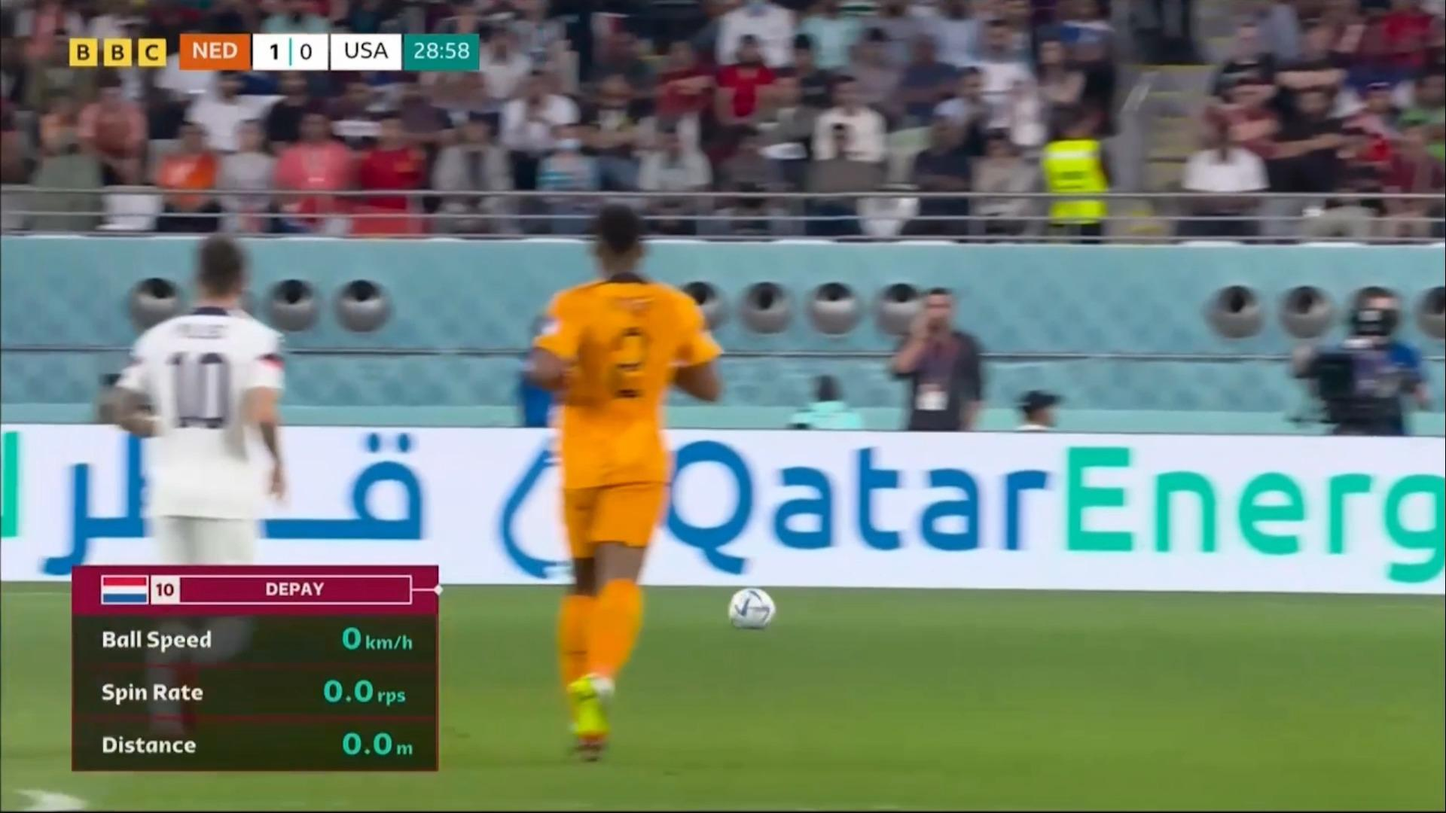Ball: (727, 587, 776, 635)
Player: (517, 199, 718, 761), (102, 230, 287, 740), (1290, 287, 1432, 437), (887, 287, 985, 432)
